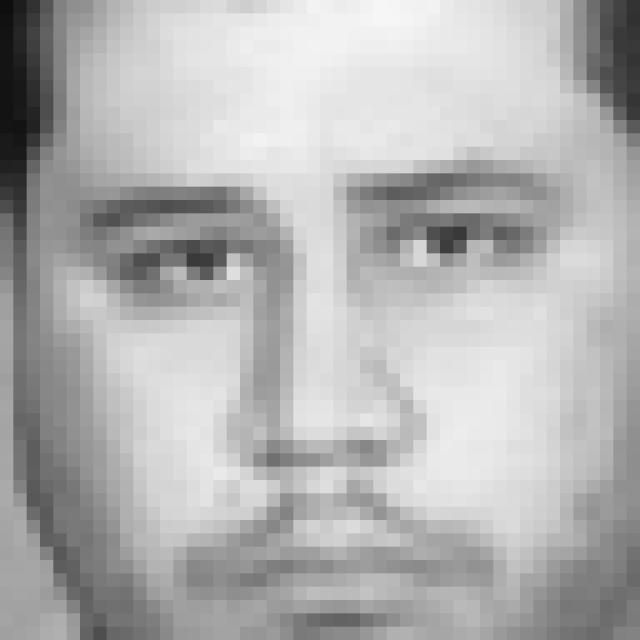neutral: (81, 134, 572, 640)
